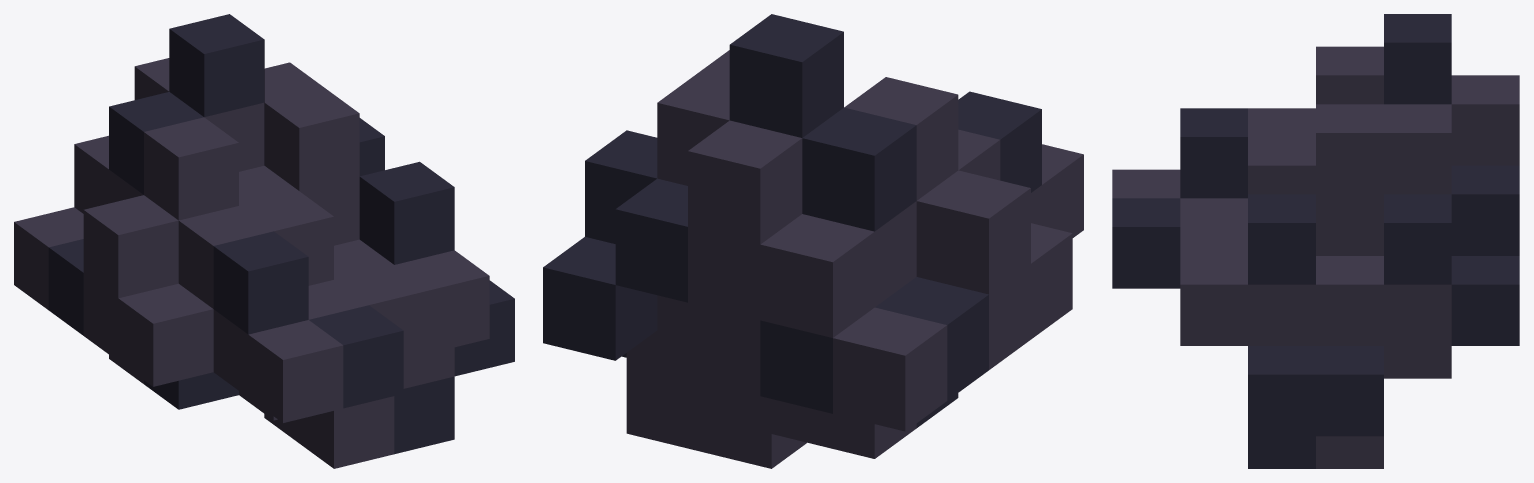
Rendered from cometa-p.obj.
3 renders of one model, left to right at view 1: azimuth 30°, elevation 25°; view 2: azimuth 150°, elevation 25°; view 3: azimuth 270°, elevation 25°, orthographic. The views are drawn at different scales.
Size of the model in its own units: 0.6 by 0.6 by 0.6.
1 material, 1 textured.
